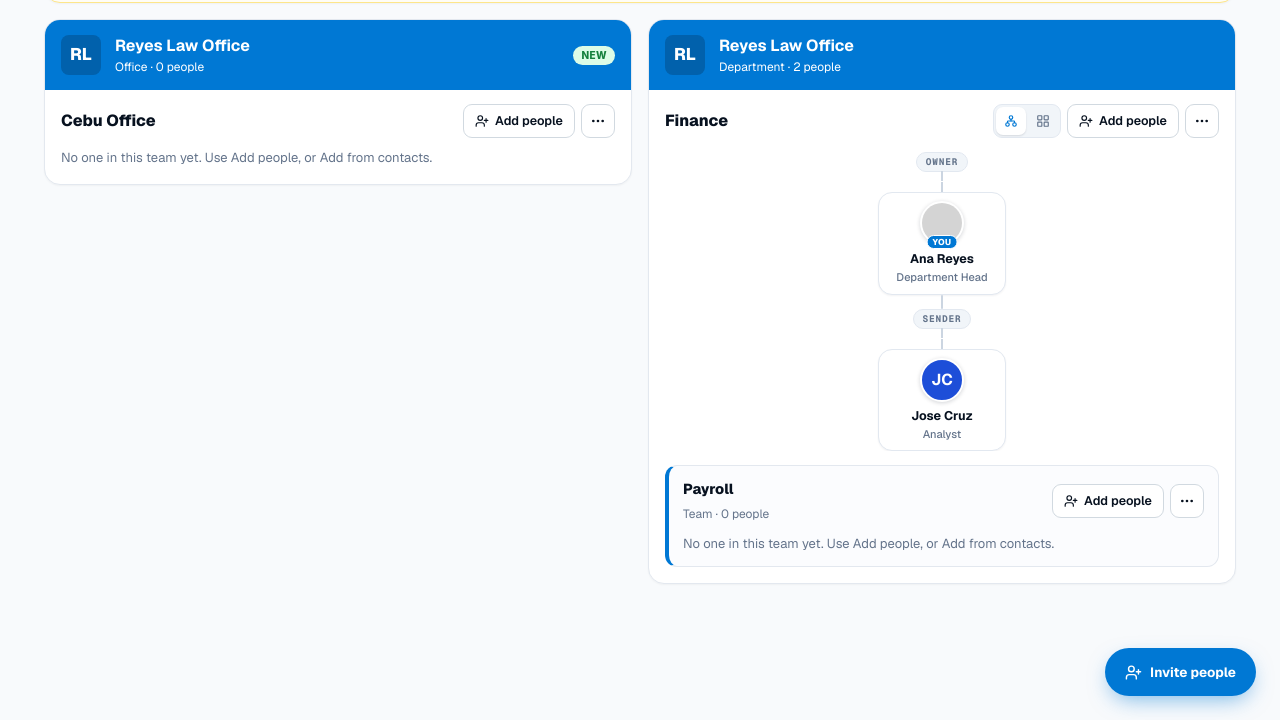
Test: a person's panel › moves them to another team: added there, then removed from this one
(page scrolled)
Step 1. Click the button with test id "tree-node-u3" → point(942, 400), box [878,349,1006,451]
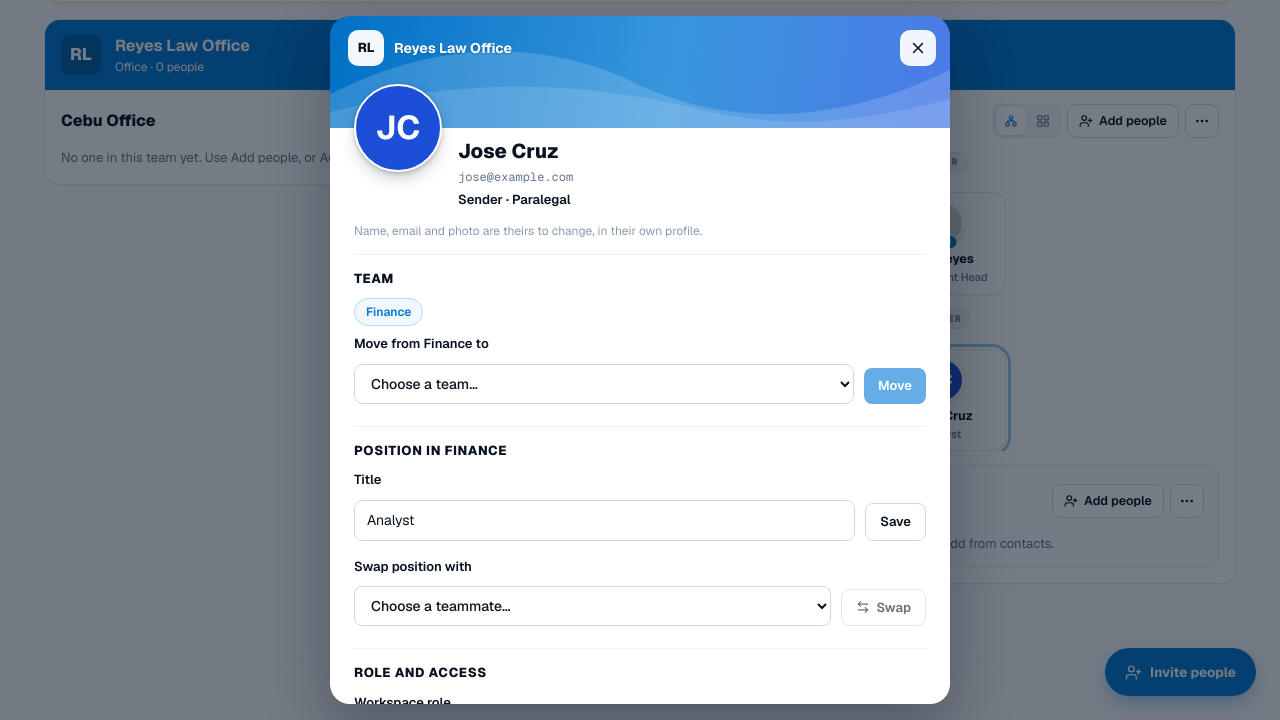
Check: the text "jose@example.com" is shown, box [458,168,573,186]
Step 2. Select "Cebu Office" in the dropdown with test id "move-to" → point(604, 384), box [354,364,854,404]
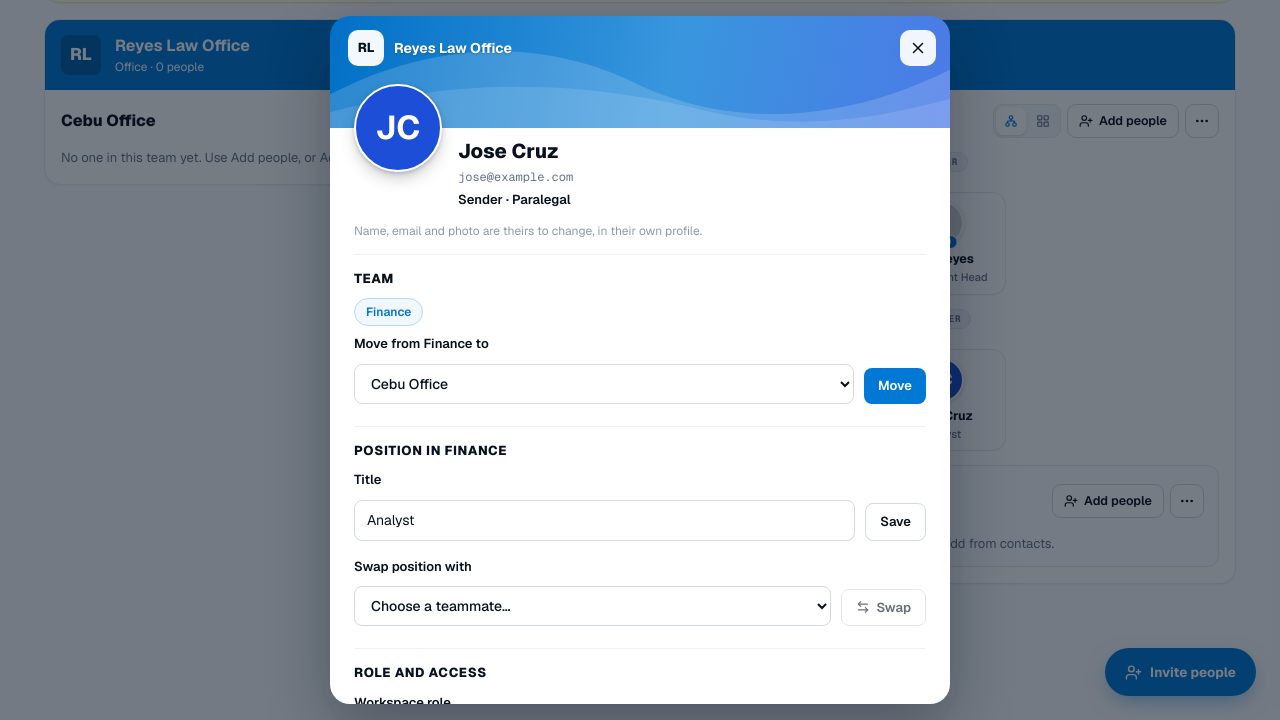
Step 3. Click the button with test id "move-member" → point(895, 386), box [864,368,926,404]
(page scrolled)
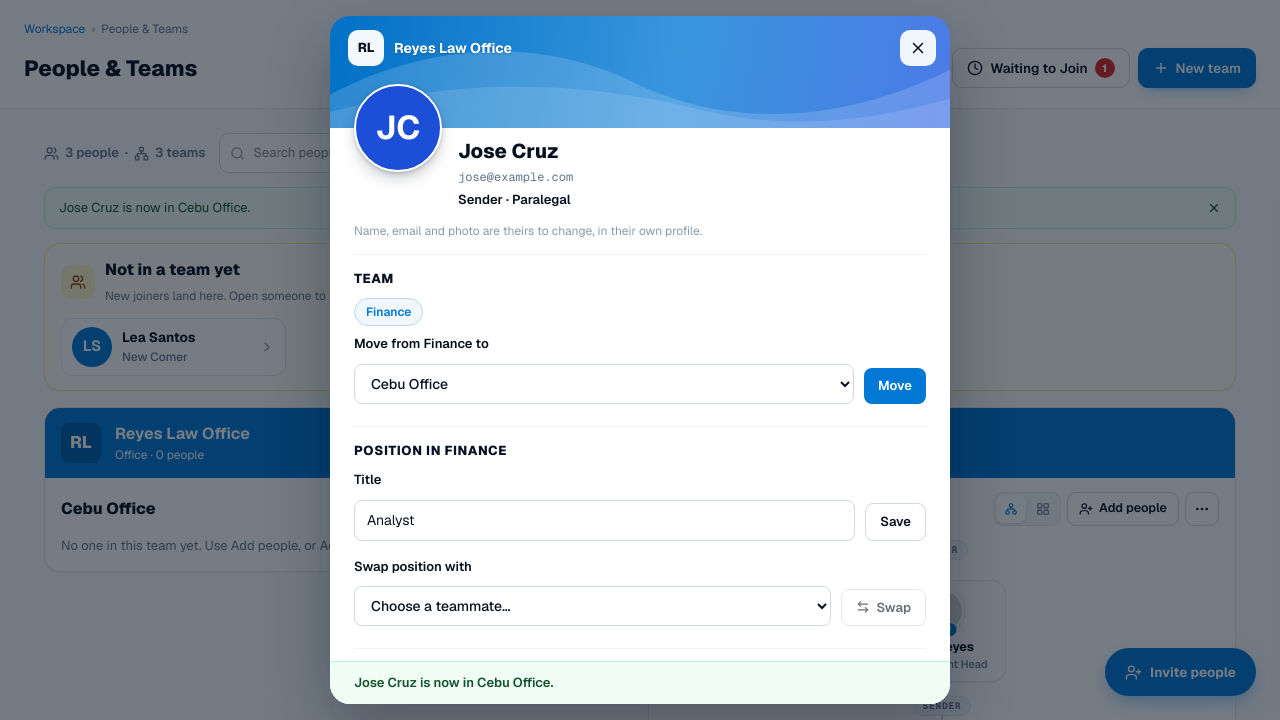
Check: the 1st text "Jose Cruz is now in Cebu Office." is shown, box [44,187,1236,228]
